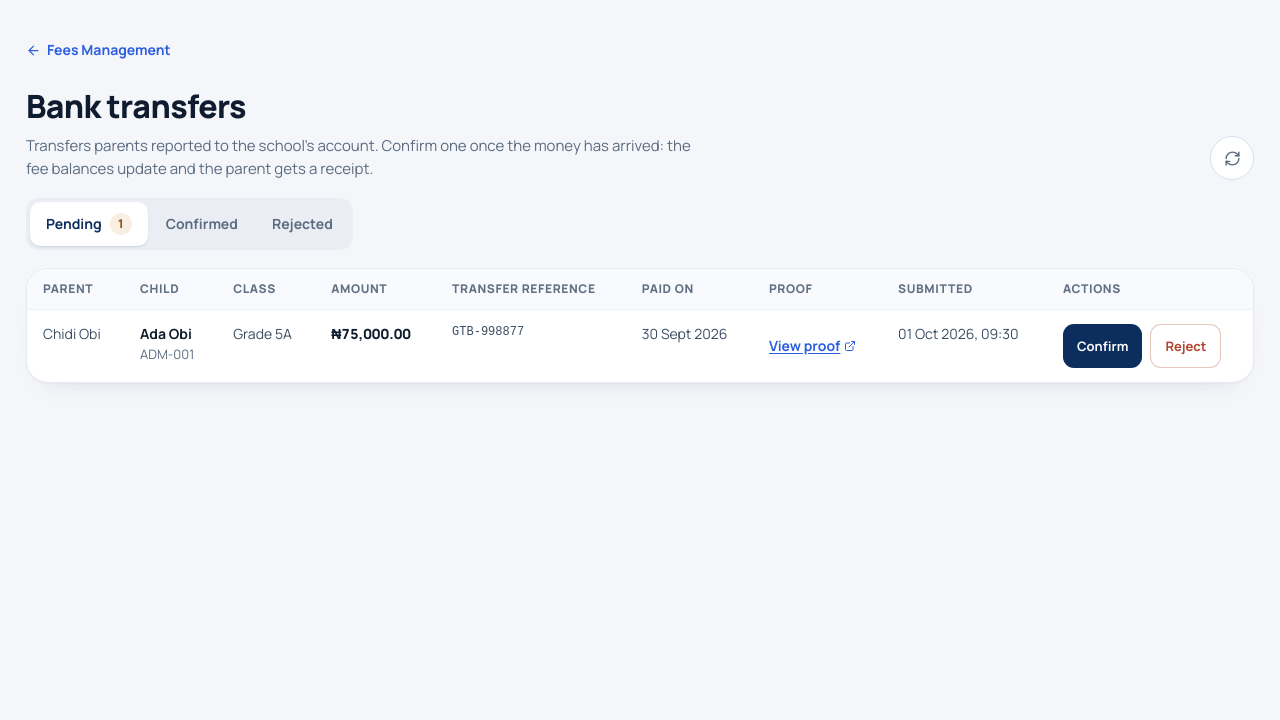
Test: rejecting a transfer › sends the trimmed reason and closes
Click the button with aria-label "Reject transfer from" at (1186, 346), box [1150,324,1222,368]
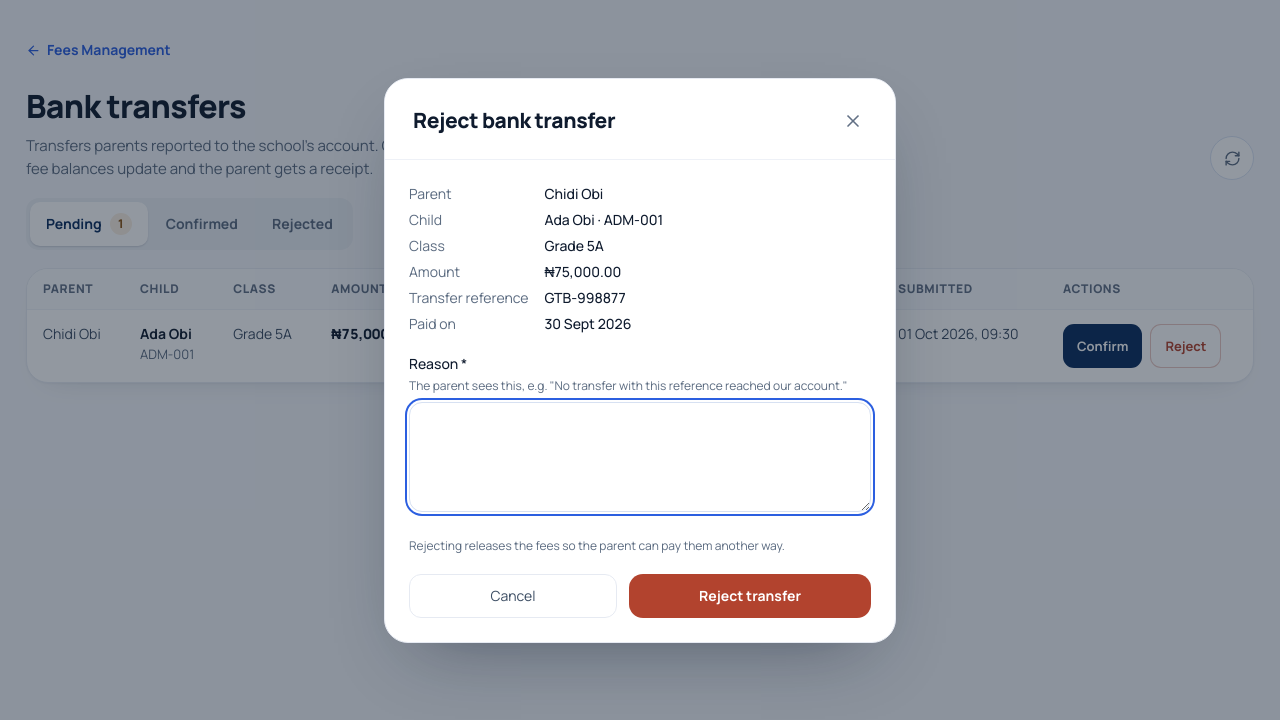
Type "  Nothing arrived with this reference  " into the text box labelled "Reason *" at (640, 456), box [409,402,871,512]
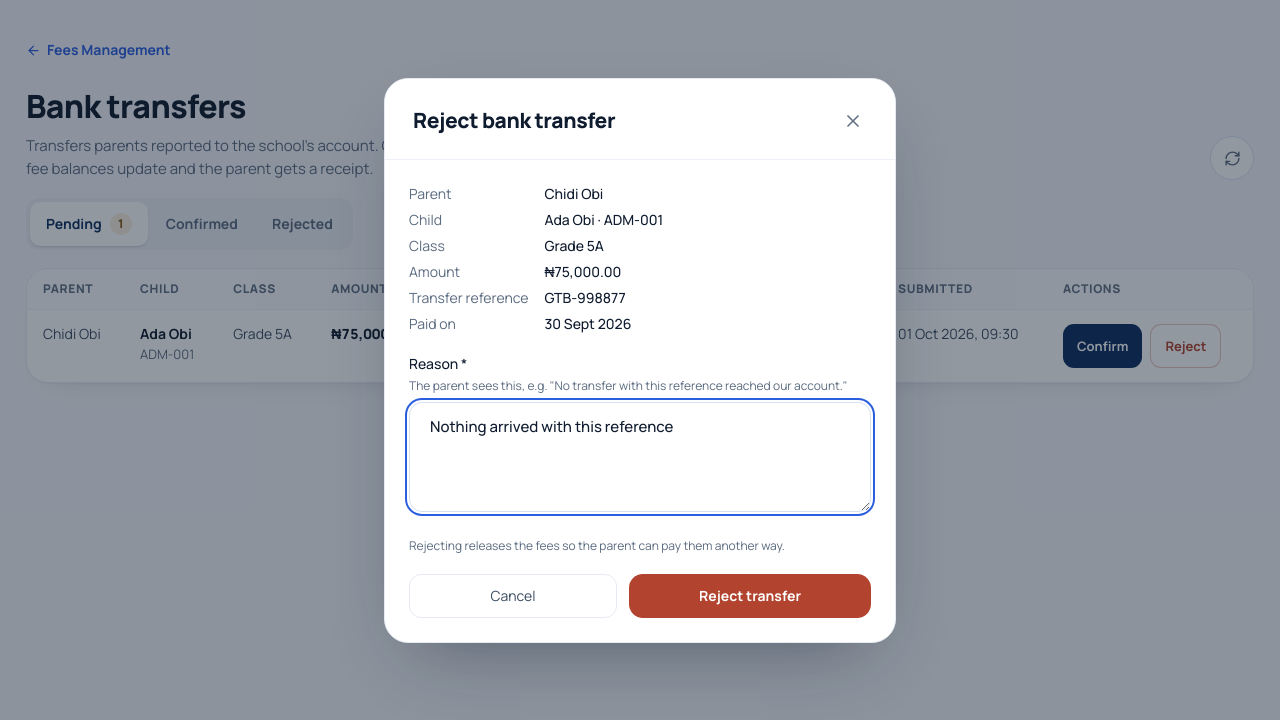
Click the button "Reject transfer" at (750, 596), box [629,574,871,618]
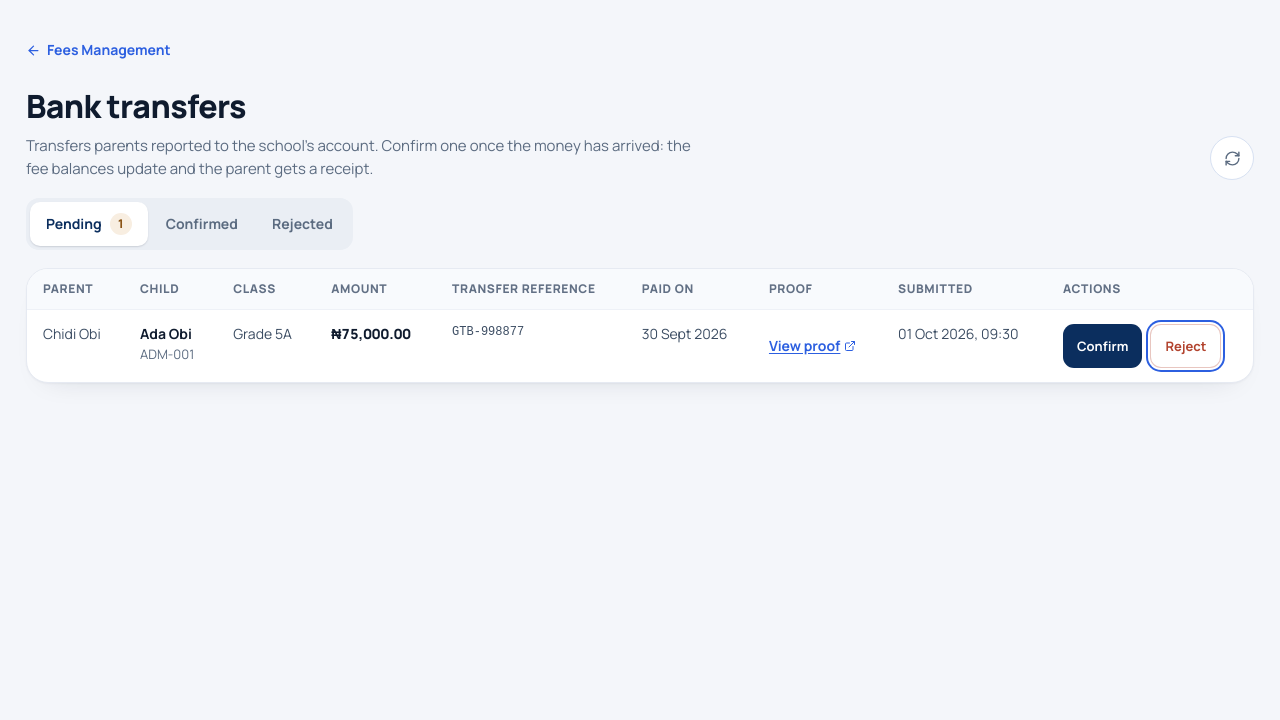
Result: the dialog is gone
